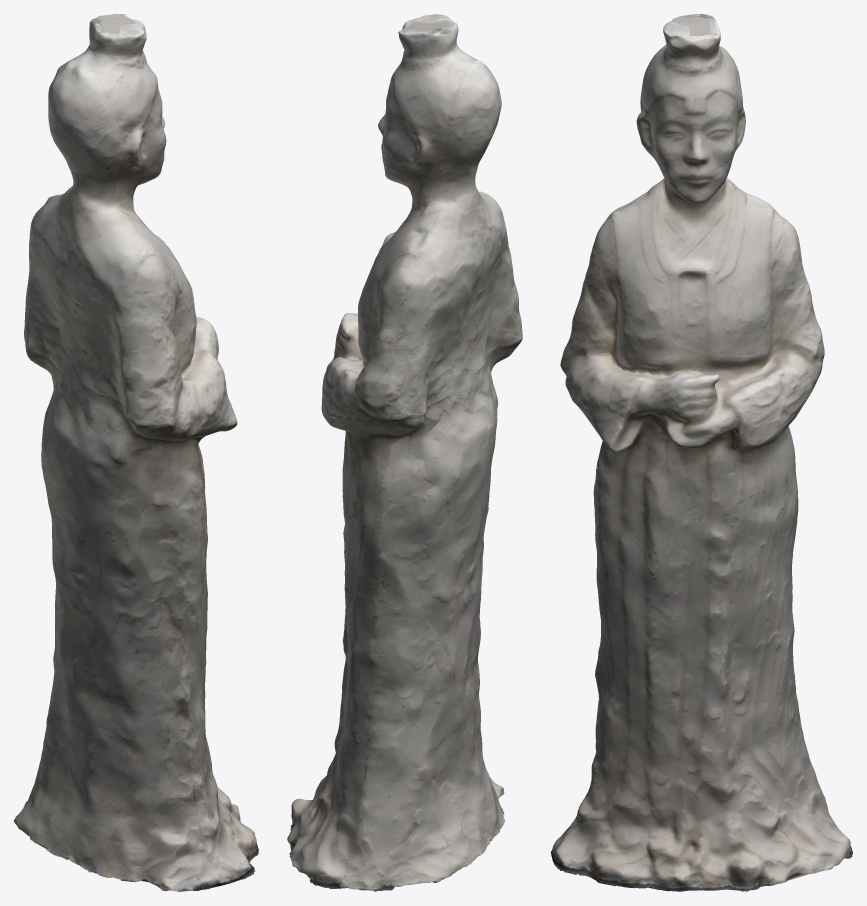
The model's file is baekhwa.glb.
3 renders of one model, left to right at view 1: azimuth 30°, elevation 25°; view 2: azimuth 150°, elevation 25°; view 3: azimuth 270°, elevation 25°, orthographic.
Visible parts, largest first — view 1: Mesh_0_Part_0; view 2: Mesh_0_Part_0; view 3: Mesh_0_Part_0.
Boxes of the visible parts, left/top/right/bottom form: Mesh_0_Part_0: left=14, top=14, right=258, bottom=891; Mesh_0_Part_0: left=287, top=14, right=522, bottom=891; Mesh_0_Part_0: left=551, top=14, right=852, bottom=891.
Size of the model in its own units: 1.56 by 6.85 by 2.29.
1 material, 1 textured.
